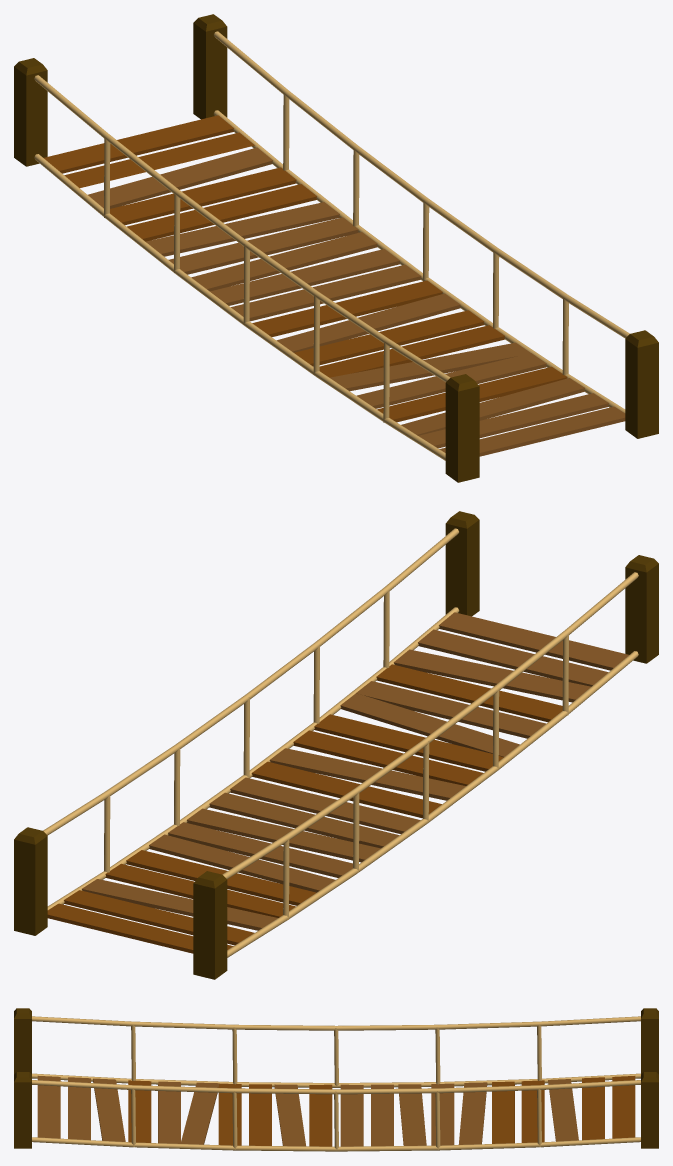
File: Bridge.fbx
The picture shows the model from 3 angles, top to bottom: view 1: azimuth 30°, elevation 25°; view 2: azimuth 150°, elevation 25°; view 3: azimuth 270°, elevation 25°; orthographic projection. The views are drawn at different scales.
Parts seen in each view (by area): view 1: pCube26; view 2: pCube26; view 3: pCube26.
Boxes of the visible parts, x1,y1,x2,y2 form: pCube26: (14, 14, 658, 482); pCube26: (14, 511, 658, 979); pCube26: (14, 1008, 658, 1151).
Size of the model in its own units: 26.86 by 13.44 by 103.
Materials: 1 (1 with a texture image).
